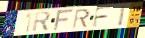1: (25, 12, 32, 32)
F: (91, 5, 114, 29), (53, 8, 75, 32)
I: (117, 5, 128, 27)
R: (31, 10, 52, 33), (72, 8, 91, 30)
